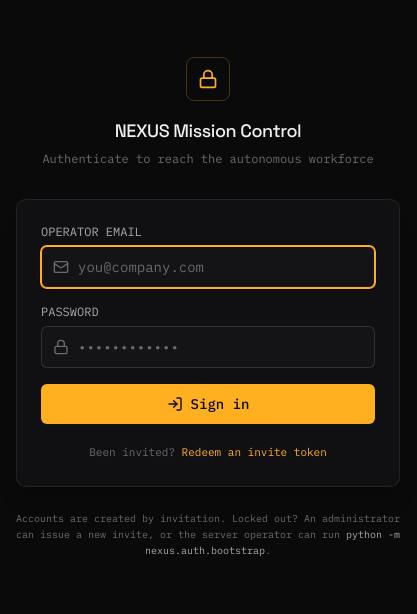
Login accessibility and reliability › never renders the password in error output
The width and height of the screenshot is (417, 614).
Type "ops@nvlabs.dev" into the field labelled "Operator Email".
click(208, 267); type("ops@nvlabs.dev")  # box [41,246,375,288]
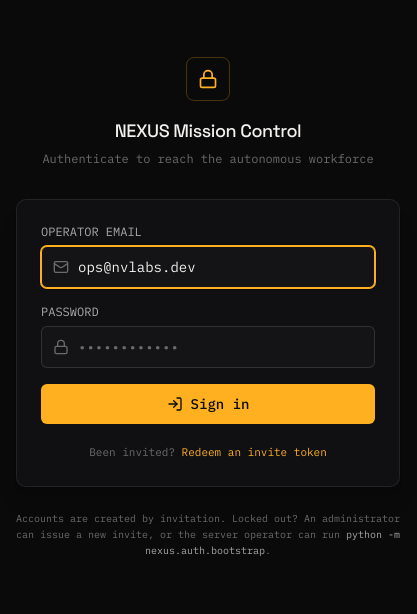
Type "correct horse battery staple" into the password field labelled "Password".
click(208, 347); type("correct horse battery staple")  # box [41,326,375,368]
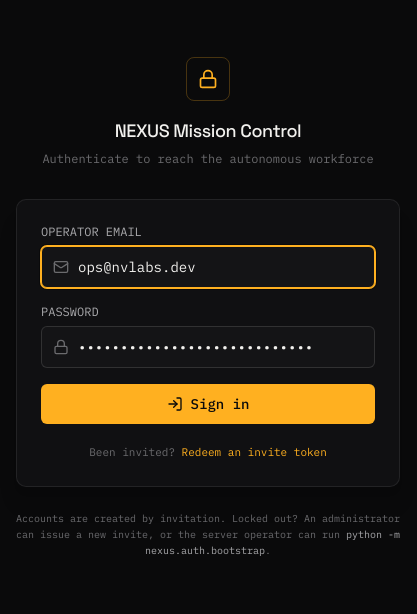
Submit the form, box [16,199,400,487]
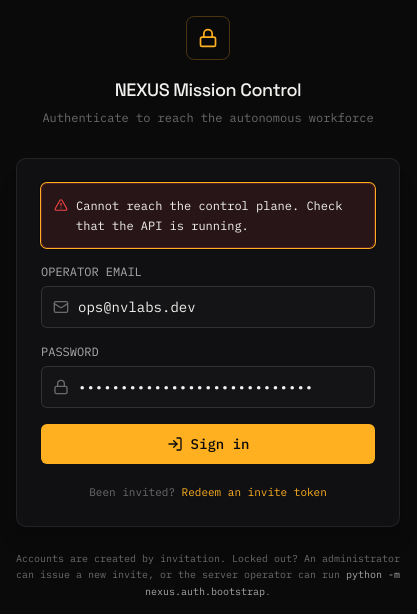
Check: the message shows "Cannot reach the control plane.", box [76,198,342,233]
